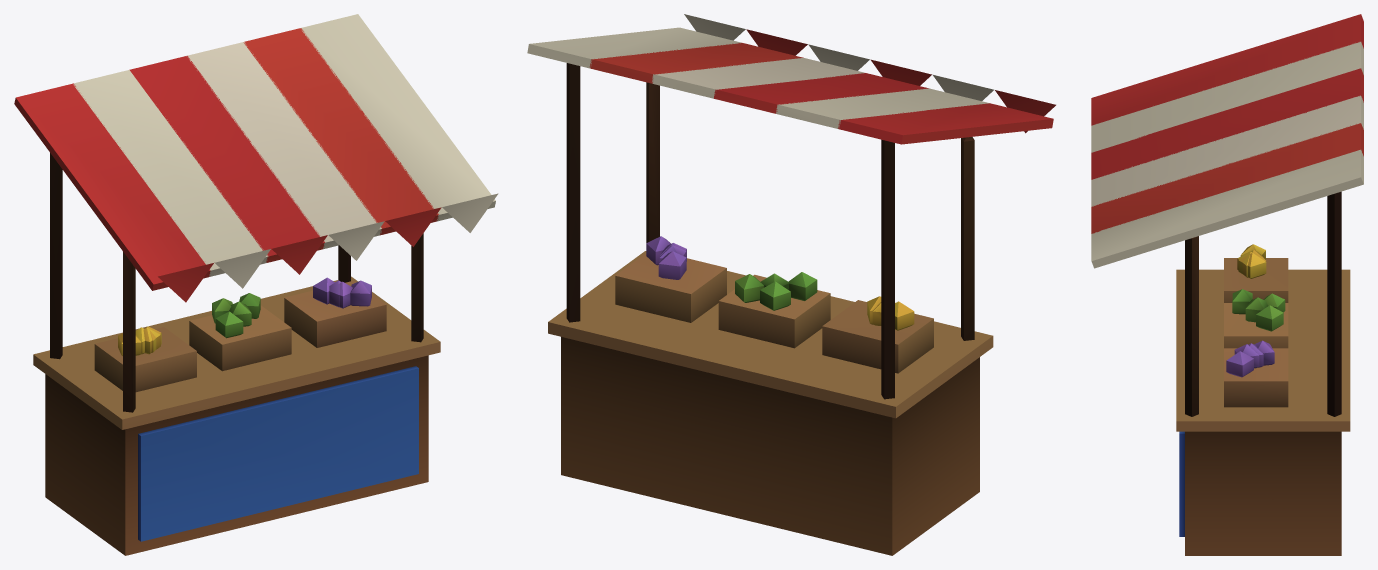
Rendered from Meadow_Stall_A.fbx.
3 renders of one model, left to right at view 1: azimuth 30°, elevation 25°; view 2: azimuth 150°, elevation 25°; view 3: azimuth 270°, elevation 25°, orthographic. The views are drawn at different scales.
Parts seen in each view (by area): view 1: Meadow_Stall_A; view 2: Meadow_Stall_A; view 3: Meadow_Stall_A.
Part boxes in pixels (bbox=[...]): Meadow_Stall_A: bbox=[14, 14, 498, 555]; Meadow_Stall_A: bbox=[527, 14, 1055, 555]; Meadow_Stall_A: bbox=[1091, 14, 1363, 555].
Bounding box in the file's own units: 2.71 × 3 × 1.96.
